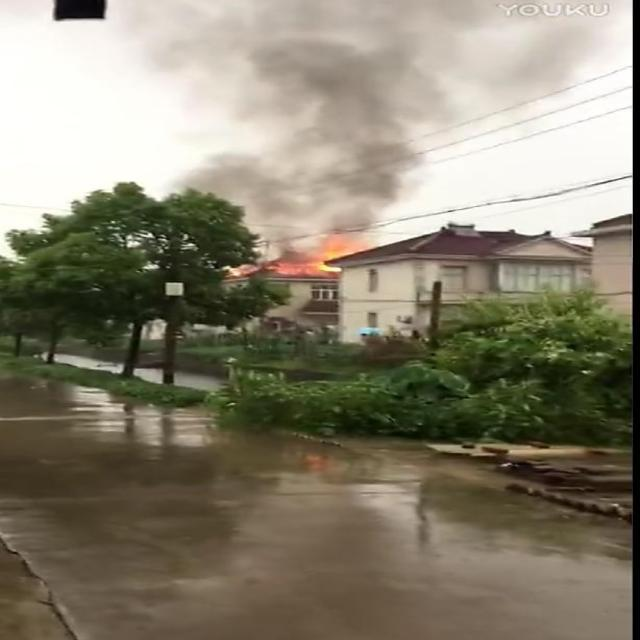Fire: (225, 235, 368, 278)
Smoke: (109, 1, 622, 262)
